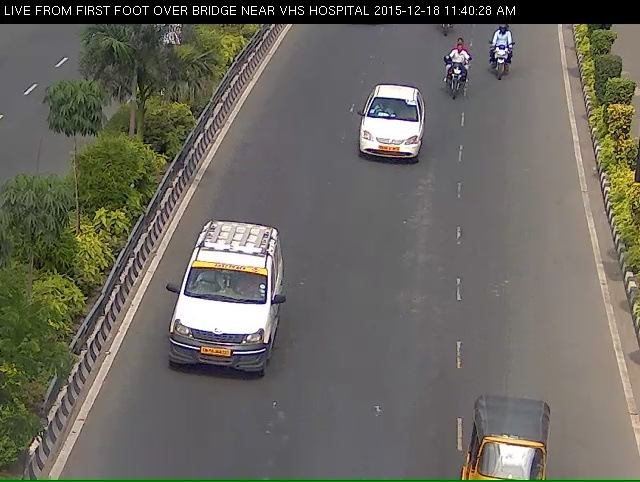Auto: (467, 423, 562, 482)
Car: (153, 245, 282, 422), (348, 85, 429, 193)
Person: (484, 27, 522, 79), (448, 43, 468, 115)
